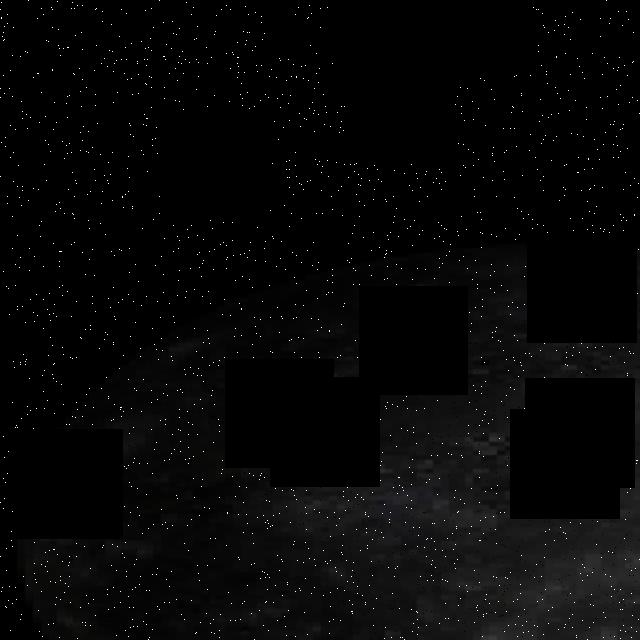Mercury: (16, 243, 640, 640)
